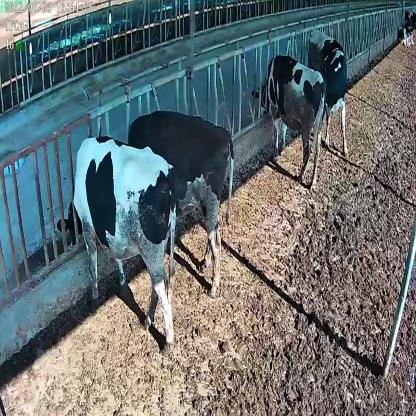cow: (58, 134, 178, 356), (127, 110, 235, 298), (252, 55, 325, 192), (307, 27, 349, 161)
